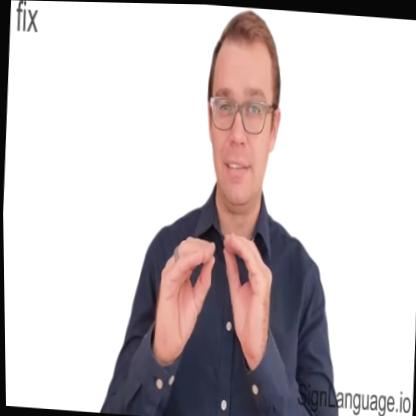Fix: (151, 228, 281, 388)
